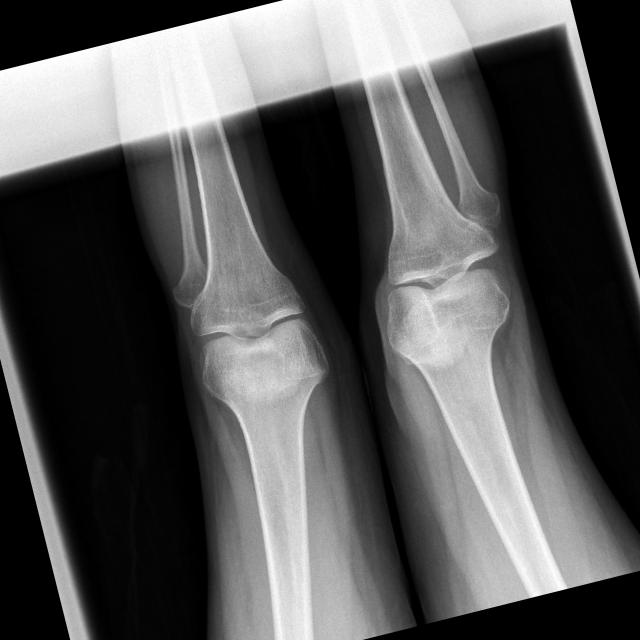Knee: (357, 192, 524, 372), (180, 254, 338, 418)
